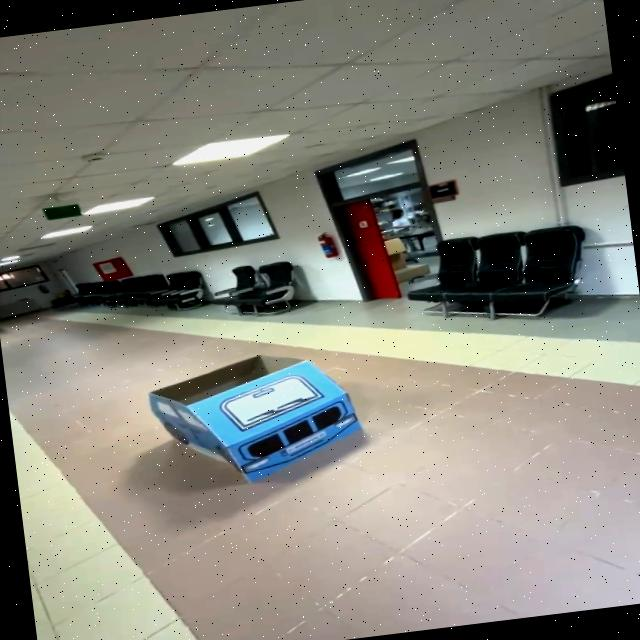blue_car: (106, 330, 407, 520)
